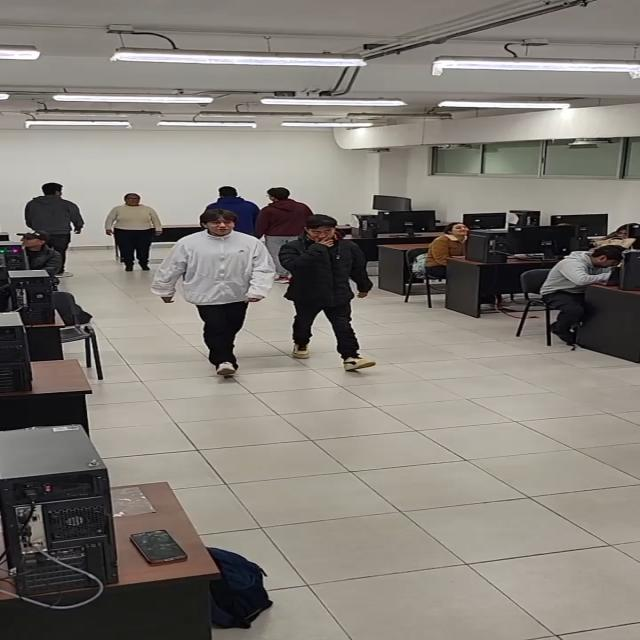Persona: (164, 210, 262, 375), (284, 214, 376, 371), (30, 181, 84, 266), (104, 193, 159, 272), (211, 187, 268, 229), (265, 184, 303, 240)
